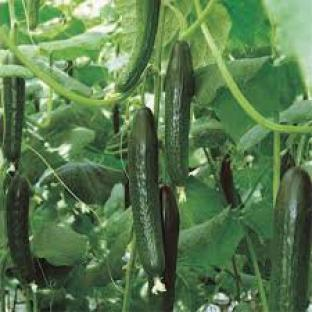Cucumber: (128, 107, 165, 291), (270, 168, 311, 311), (166, 42, 194, 185), (6, 174, 34, 284), (160, 186, 180, 311), (2, 77, 24, 165), (221, 156, 241, 207), (113, 104, 120, 134)
